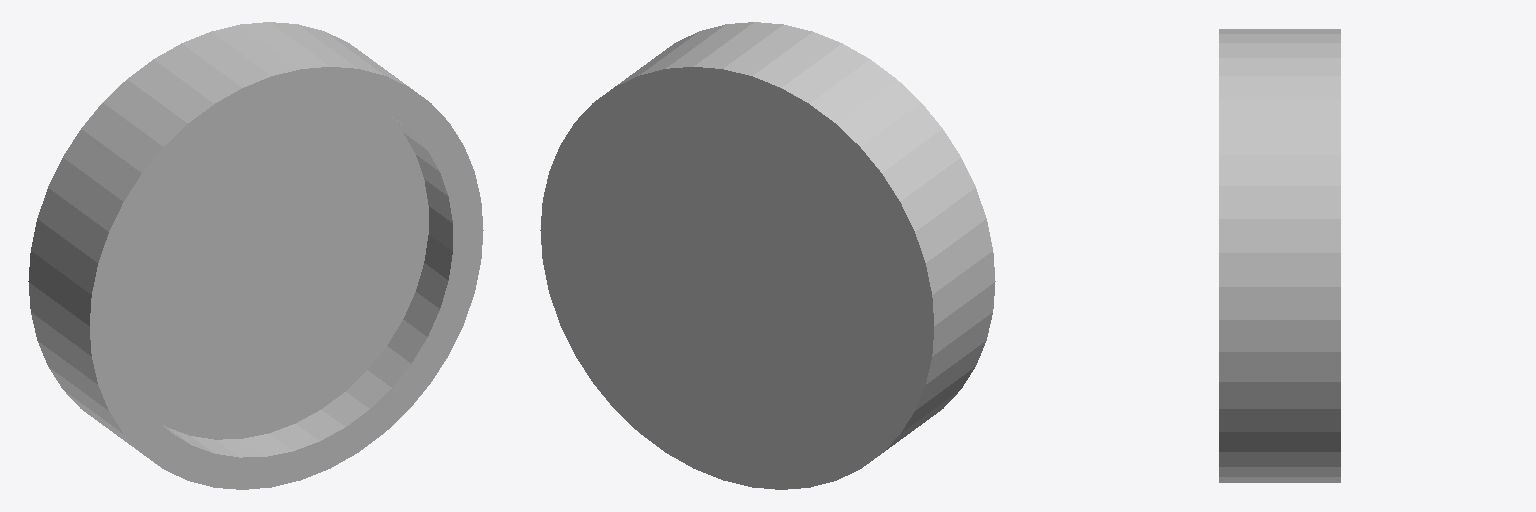
File: eye_holder.obj
The picture shows the model from 3 angles: view 1: azimuth 30°, elevation 25°; view 2: azimuth 150°, elevation 25°; view 3: azimuth 270°, elevation 25°; orthographic projection.
Visible parts, largest first — view 1: MeshBody6; view 2: MeshBody6; view 3: MeshBody6.
Part boxes in pixels (bbox=[...]): MeshBody6: bbox=[28, 22, 483, 489]; MeshBody6: bbox=[540, 22, 995, 489]; MeshBody6: bbox=[1219, 29, 1340, 482].
Bounding box in the file's own units: 9.32 × 9.29 × 2.5.